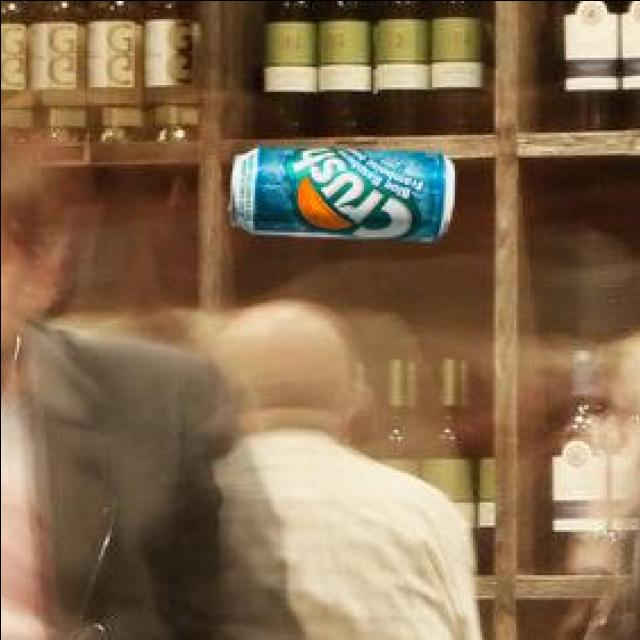logam: (224, 144, 450, 237)
